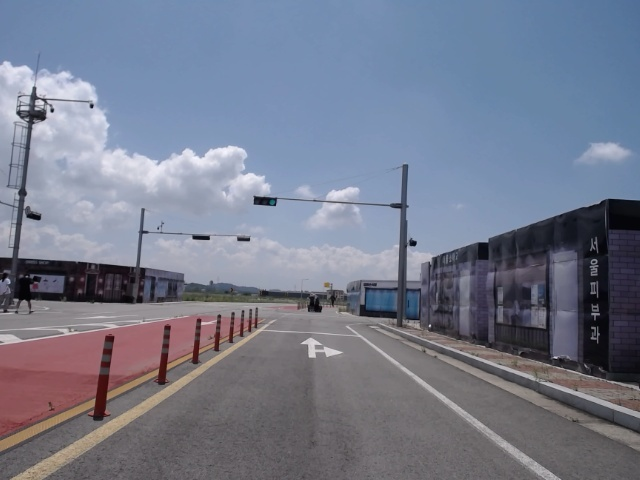green_3: (253, 197, 276, 206)
